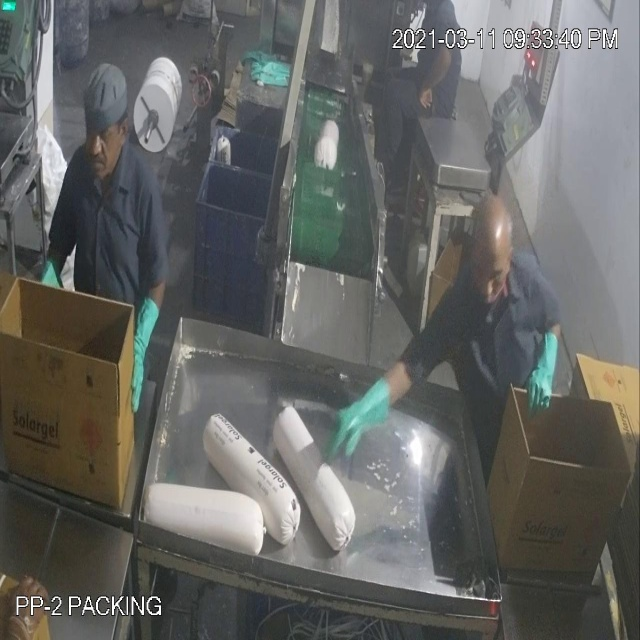Guantes: (317, 371, 404, 475), (120, 292, 168, 428), (522, 313, 561, 435)
Sin_guantes: (4, 566, 57, 640), (417, 37, 461, 121)
